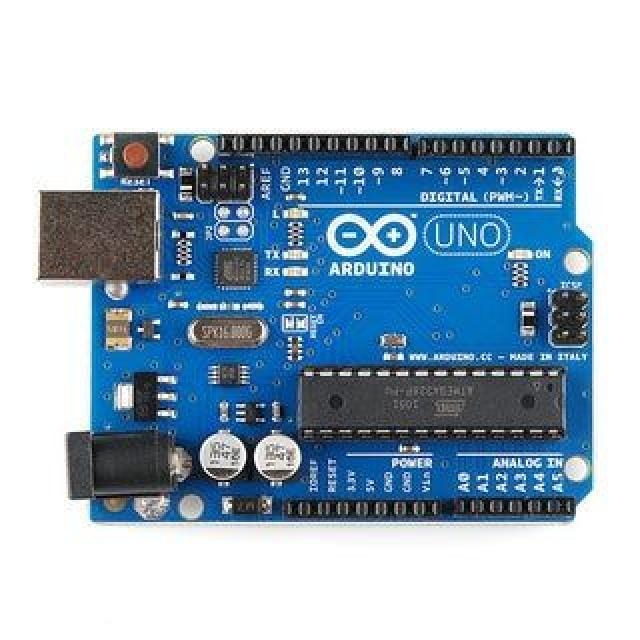Arduino: (26, 115, 602, 537)
